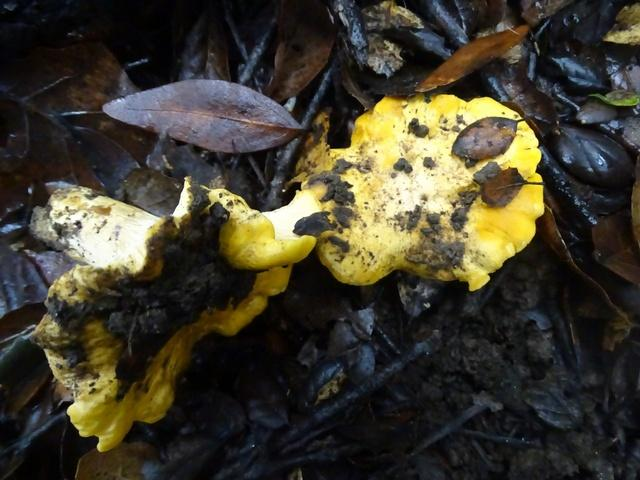Edible Mushroom: (201, 90, 546, 292), (41, 185, 263, 435)
